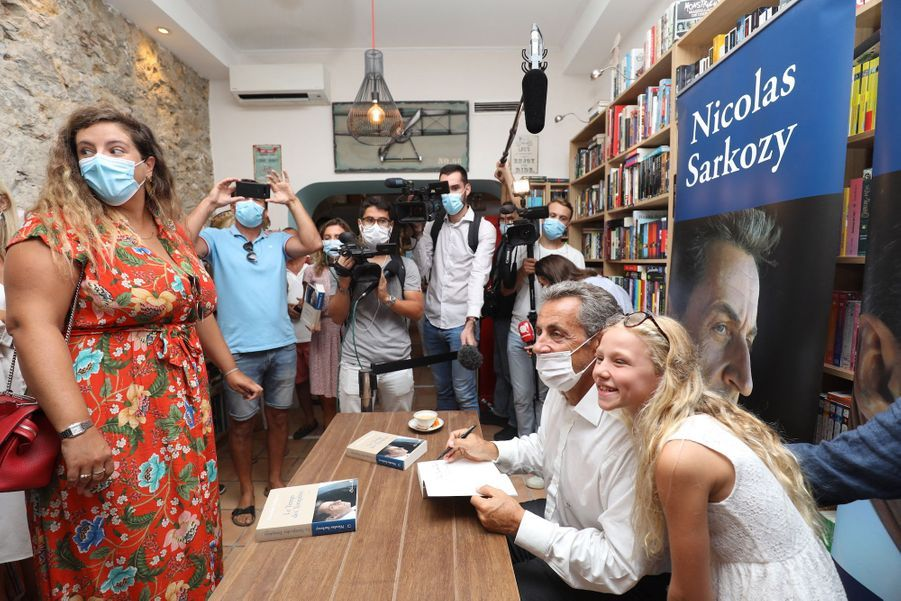with_incorrect_mask: (534, 318, 585, 388)
with_mask: (72, 135, 140, 202), (363, 211, 391, 243), (439, 181, 464, 213), (235, 195, 263, 223), (547, 206, 566, 239), (323, 230, 342, 255)
without_mask: (593, 346, 649, 404)
